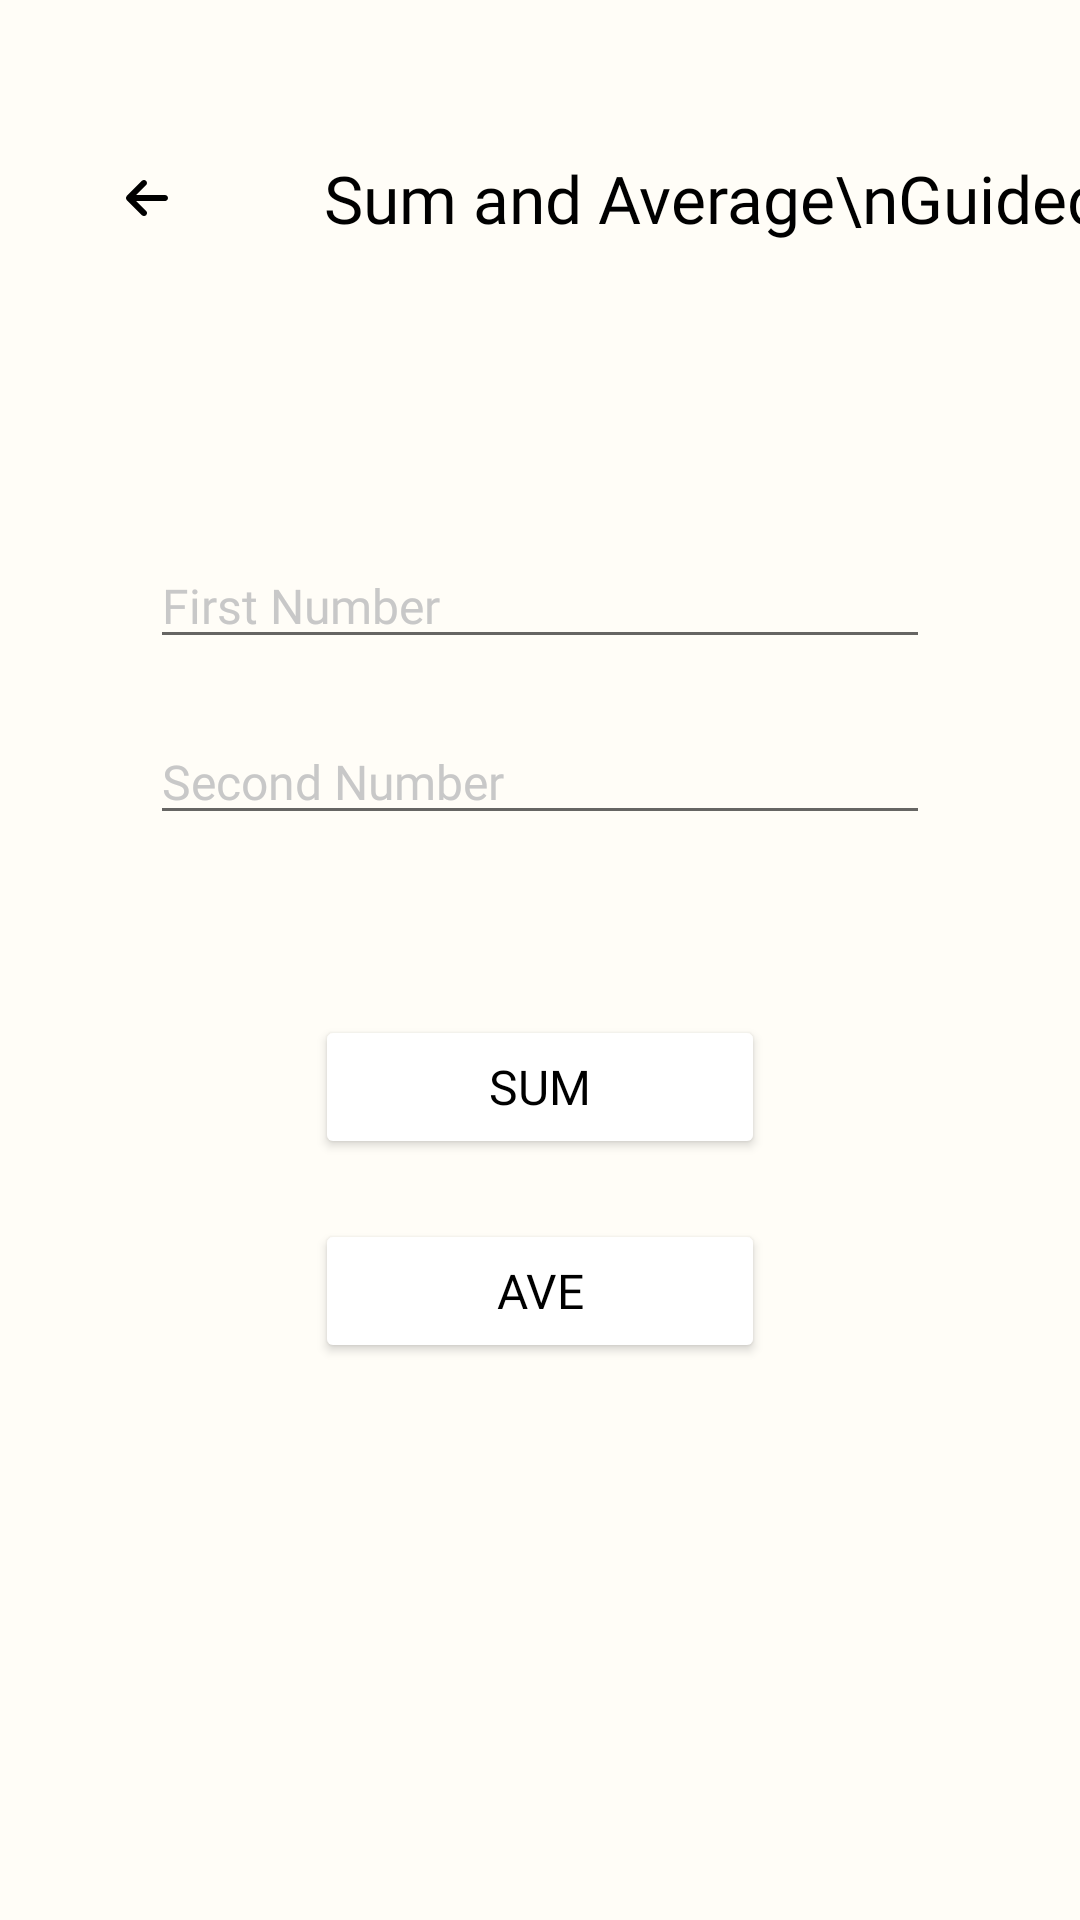

Point at icon controls on the screen. Image size 1080x1920, points as point (x, y).
backarrow: point (147, 198)
